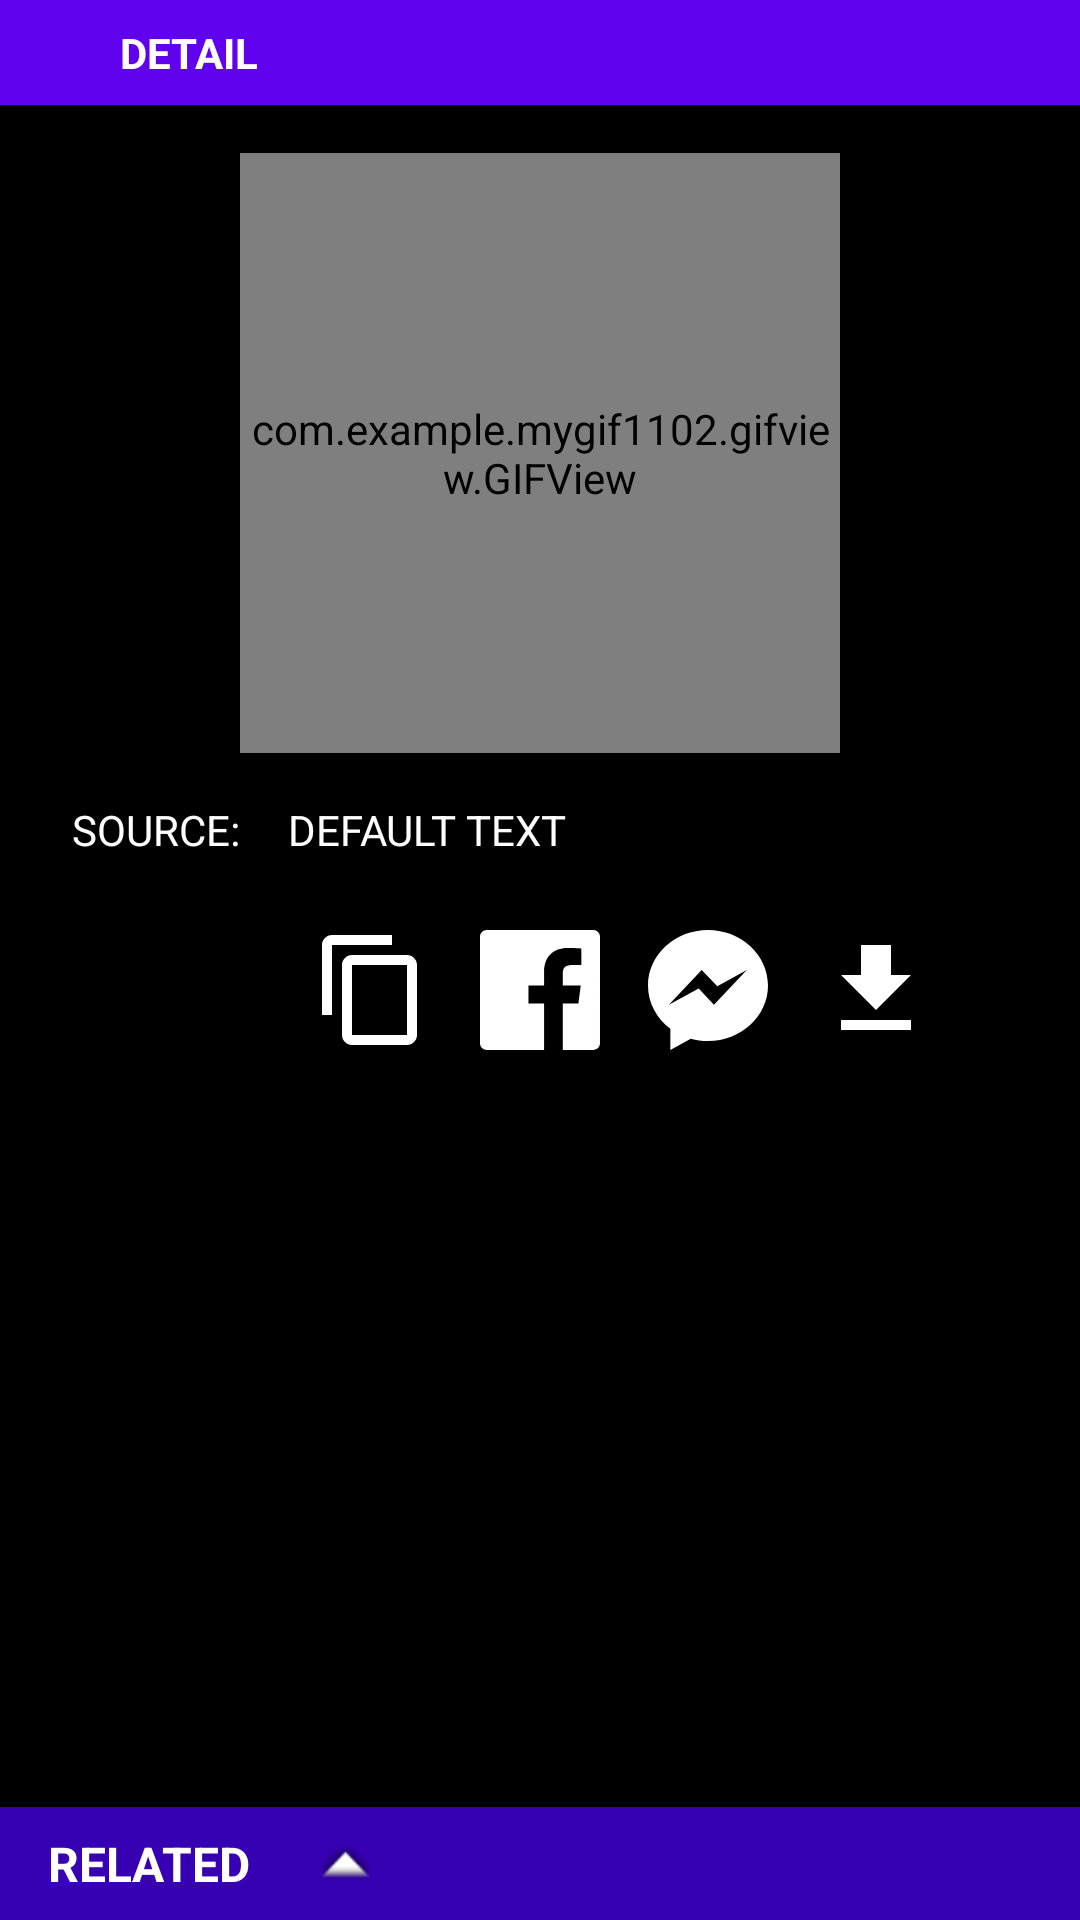

Locate icon controls on the screen. Image size 1080px x 1920px, boxes as (x1, y1, x2, y2).
arrow up float: (322, 1849, 369, 1878)
file download: (841, 945, 911, 1030)
